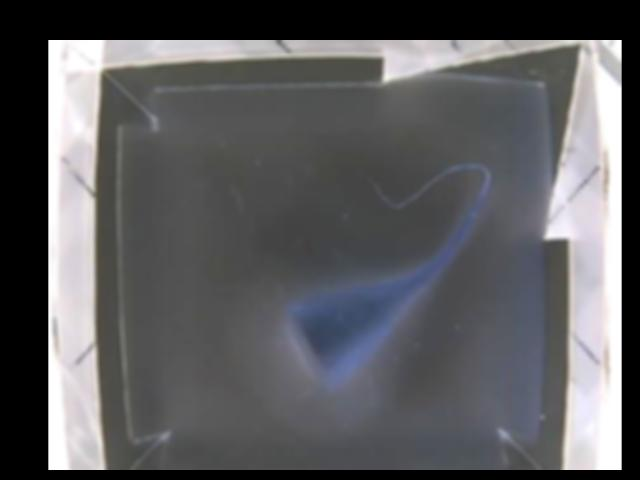Mooli: (289, 261, 438, 389)
